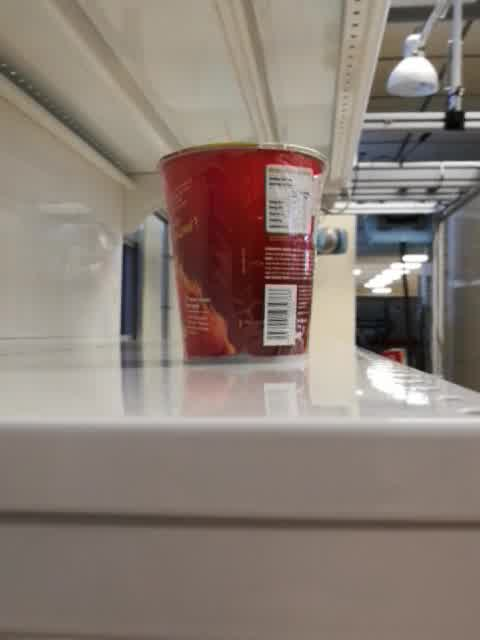maggi: (155, 141, 332, 367)
